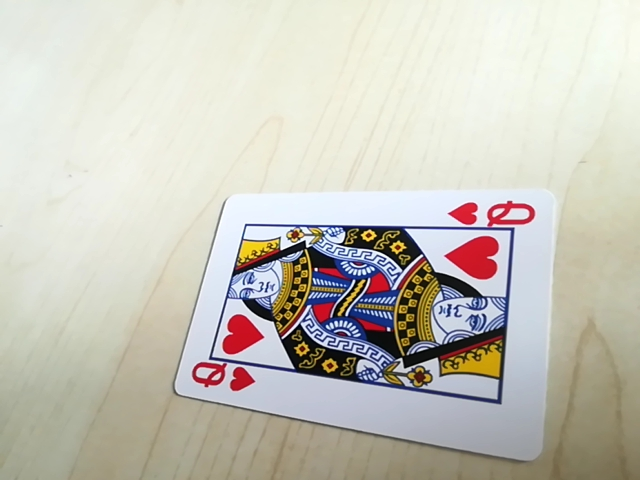hx q: (448, 194, 541, 231), (187, 361, 258, 396)
